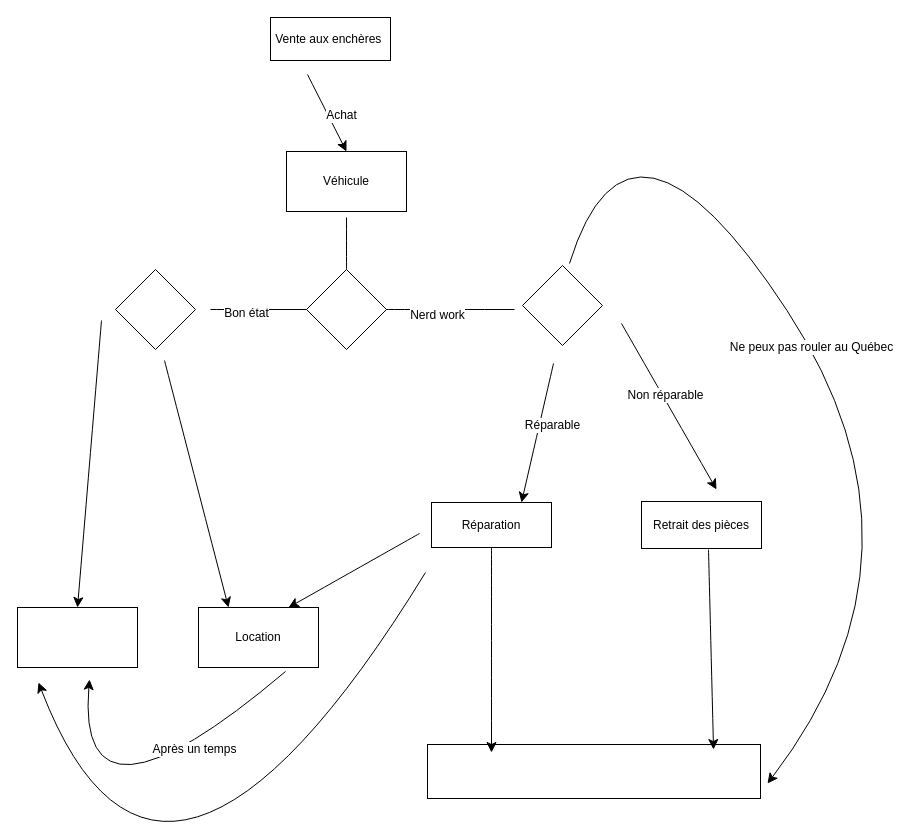
The diagram is 910 pixels wide and 839 high, and some of its shapes have lost their labels. The shapes that lost their labels are listed below. From the top down, each one's centre as x and y in pixels, then its label:
At point 77,637: "Vente local".
At point 593,771: "Exportation".
